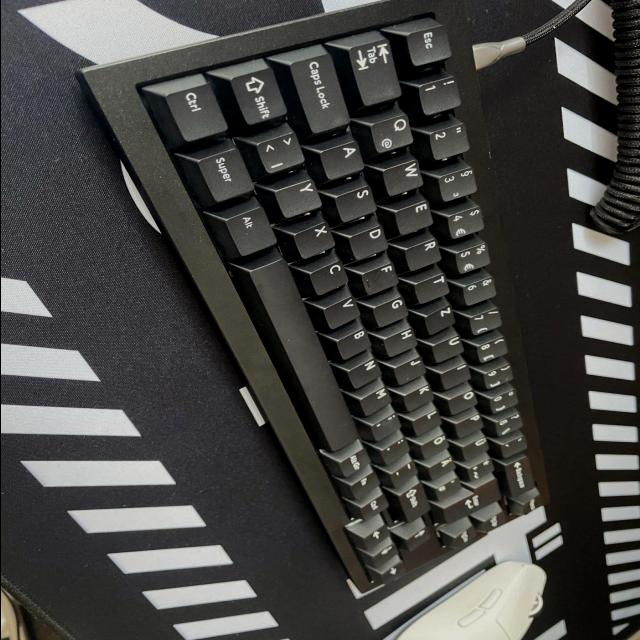0: (488, 386, 521, 415)
1: (418, 76, 463, 116)
2: (428, 120, 471, 161)
3: (437, 162, 479, 202)
4: (445, 204, 487, 240)
5: (453, 239, 493, 275)
6: (462, 270, 498, 306)
7: (467, 306, 505, 336)
8: (476, 333, 511, 363)
9: (482, 361, 516, 389)
a: (318, 137, 366, 181)
accent: (500, 432, 530, 458)
ae: (427, 454, 457, 482)
alt-left: (222, 202, 280, 258)
altgr-right: (337, 442, 373, 478)
b: (337, 321, 373, 361)
c: (309, 253, 349, 297)
comma: (370, 409, 403, 441)
d: (347, 219, 389, 261)
del: (503, 456, 536, 497)
e: (394, 197, 435, 236)
enter: (442, 478, 502, 526)
f: (360, 258, 400, 296)
g: (372, 291, 409, 329)
h: (383, 322, 419, 358)
hash: (432, 474, 462, 502)
i: (441, 357, 473, 389)
j: (393, 351, 427, 385)
k: (403, 379, 435, 412)
keyboard: (73, 0, 557, 594)
l: (412, 405, 444, 435)
less: (254, 128, 307, 175)
m: (360, 380, 393, 416)
minus: (385, 461, 420, 489)
n: (346, 352, 384, 389)
o: (448, 384, 478, 415)
oe: (419, 431, 451, 463)
p: (454, 410, 485, 440)
plus: (465, 458, 497, 486)
point: (378, 437, 412, 467)
q: (369, 108, 415, 156)
r: (405, 234, 443, 272)
s: (333, 182, 379, 224)
shift-left: (229, 65, 291, 128)
shift-lock: (286, 44, 353, 138)
shift-right: (394, 483, 432, 522)
space: (245, 252, 363, 456)
ss: (494, 410, 524, 438)
strg-left: (157, 73, 231, 145)
strg-right: (356, 494, 390, 522)
t: (413, 271, 451, 305)
tab: (346, 33, 404, 108)
u: (433, 329, 465, 363)
ue: (459, 435, 490, 461)
v: (323, 293, 361, 331)
w: (383, 158, 425, 196)
x: (292, 218, 336, 260)
y: (273, 176, 323, 220)
z: (424, 299, 456, 335)
